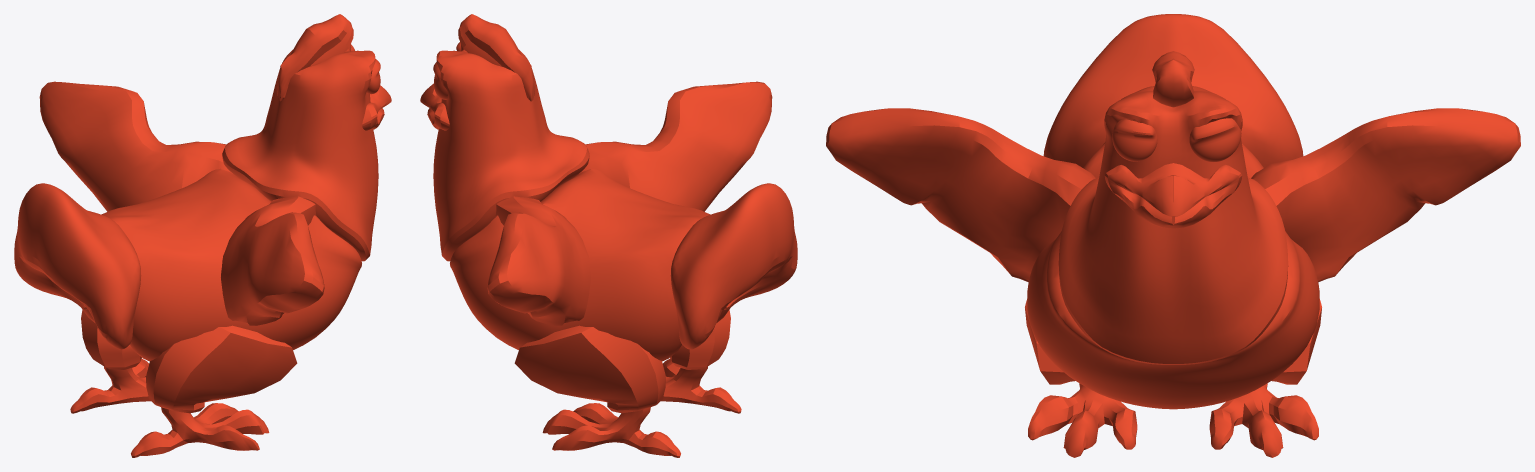
Rendered from MDL_Red_Chicken.fbx.
The picture shows the model from 3 angles, left to right: view 1: azimuth 30°, elevation 25°; view 2: azimuth 150°, elevation 25°; view 3: azimuth 270°, elevation 25°; orthographic projection. The views are drawn at different scales.
Visible parts, largest first — view 1: MDL_Basic_Body, MDL_Basic_Head, MDL_Basic_Tail; view 2: MDL_Basic_Body, MDL_Basic_Head, MDL_Basic_Tail; view 3: MDL_Basic_Body, MDL_Basic_Head, MDL_Basic_Tail.
Part boxes in pixels (x1,y1,x2,y2): MDL_Basic_Body: (39, 81, 361, 457); MDL_Basic_Head: (222, 14, 391, 261); MDL_Basic_Tail: (14, 183, 141, 349); MDL_Basic_Body: (450, 81, 772, 457); MDL_Basic_Head: (420, 14, 589, 261); MDL_Basic_Tail: (670, 183, 797, 349); MDL_Basic_Body: (826, 108, 1520, 457); MDL_Basic_Head: (1058, 51, 1288, 364); MDL_Basic_Tail: (1043, 14, 1303, 167).
Size of the model in its own units: 36.9 by 36.16 by 48.62.
